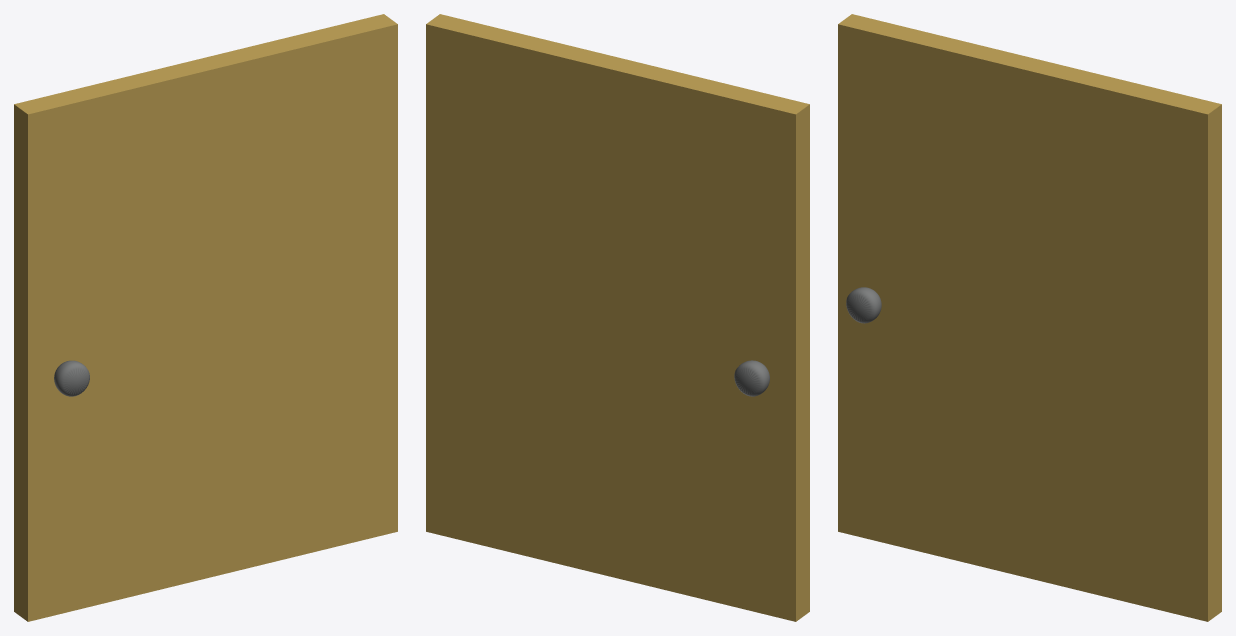
File: Door.glb
3 views of the same model, side by side, from view 1: azimuth 30°, elevation 25°; view 2: azimuth 150°, elevation 25°; view 3: azimuth 330°, elevation 25° (orthographic).
Visible parts, largest first — view 1: Door.001, Knob.004; view 2: Door.001, Knob.001; view 3: Door.001, Knob.004.
Part boxes in pixels (x1,y1,x2,y2): Door.001: (14,14,397,621); Knob.004: (54,360,89,396); Door.001: (426,14,809,621); Knob.001: (734,360,769,396); Door.001: (838,14,1221,621); Knob.004: (846,287,881,323).
Size of what is drawn, in the model's own units: 3.2 by 4.2 by 0.6483.
